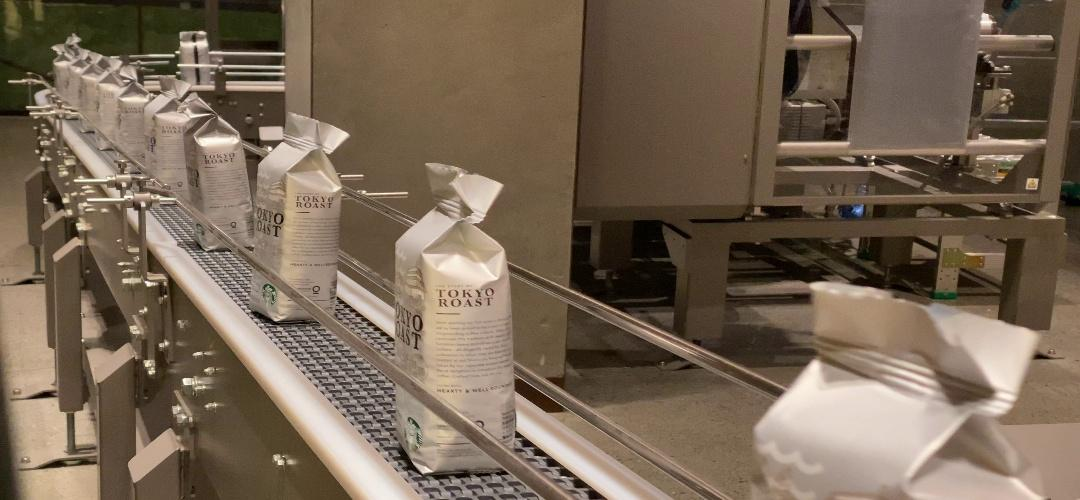conveyor: (393, 242, 512, 368), (256, 168, 340, 253), (183, 140, 254, 200)
